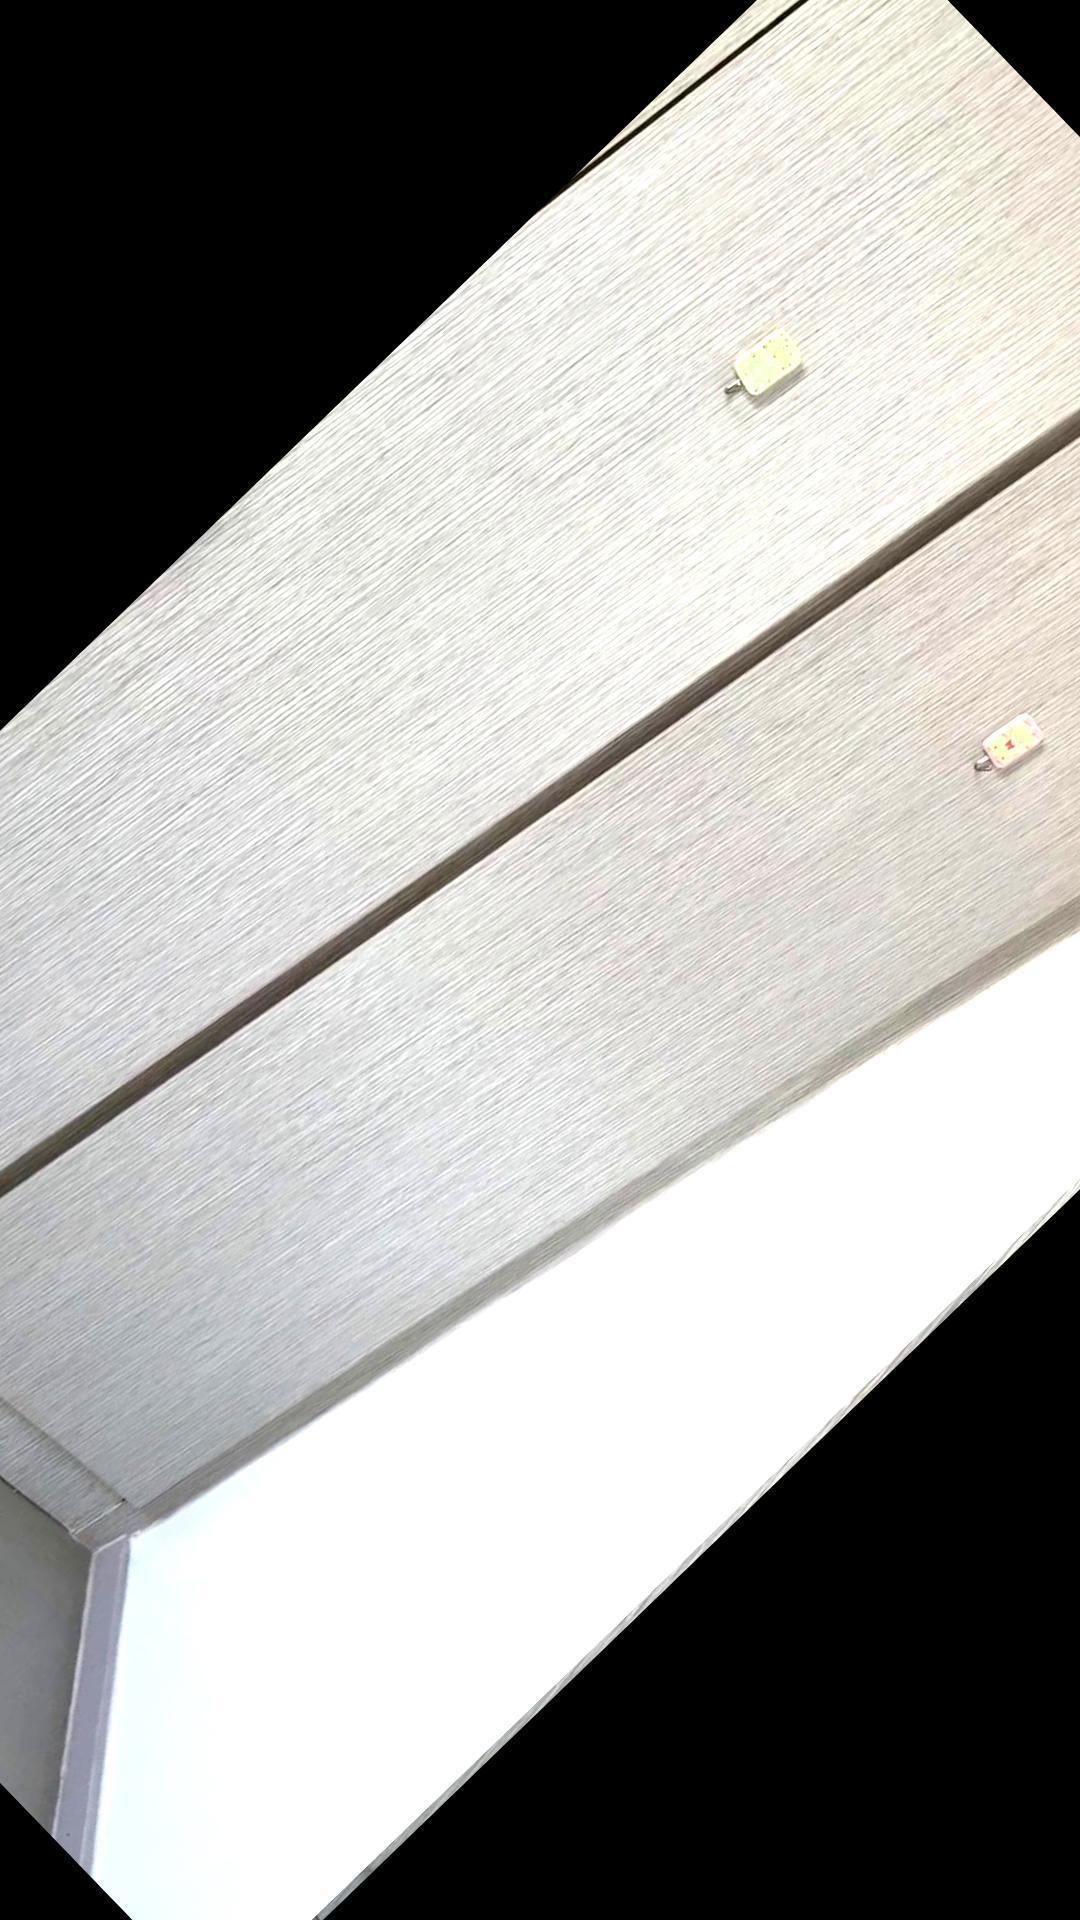Armario: (0, 0, 1080, 1807)
